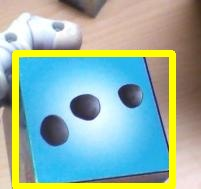Blue3: (15, 53, 172, 186)
